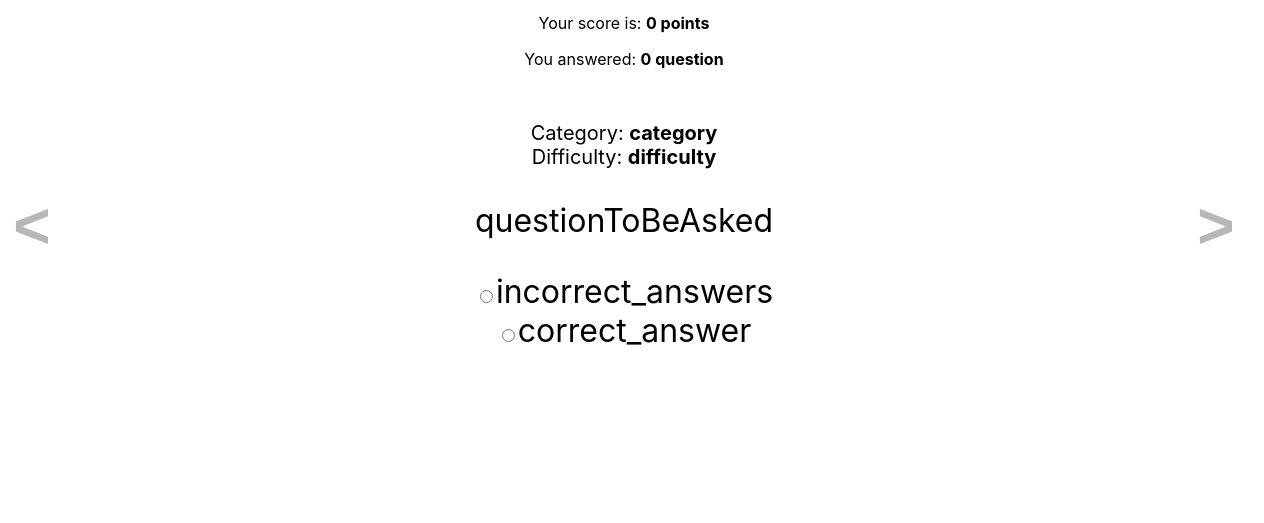
Test: enables the NEXT button if answered
The image size is (1264, 523).
Click the radio button labelled "incorrect_answers" at (486, 296), box 480,290 -> 493,303
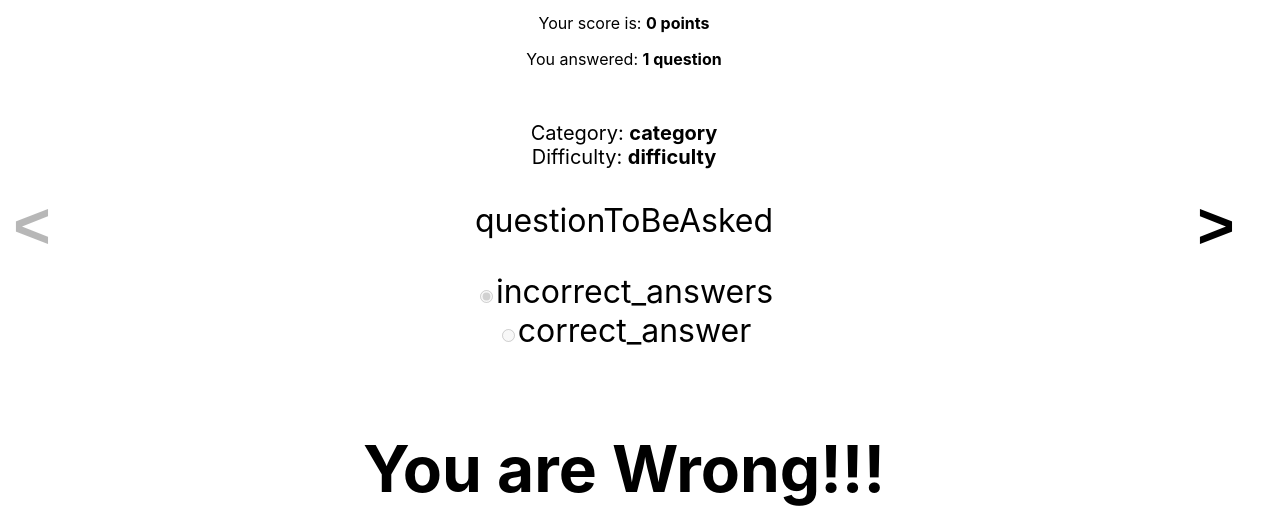
expect the button ">" is enabled: met, box 1184,85 -> 1248,366
